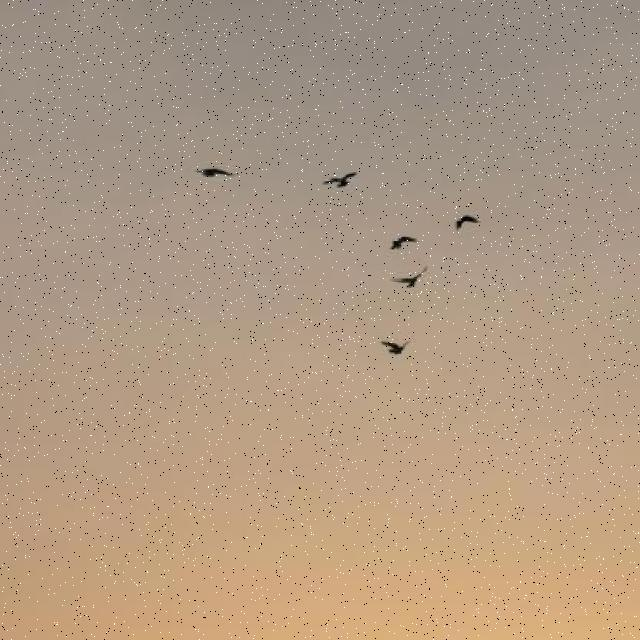bird: (392, 266, 428, 288), (194, 167, 240, 178), (324, 172, 356, 186), (381, 340, 412, 354), (455, 216, 480, 233), (392, 236, 419, 250)
